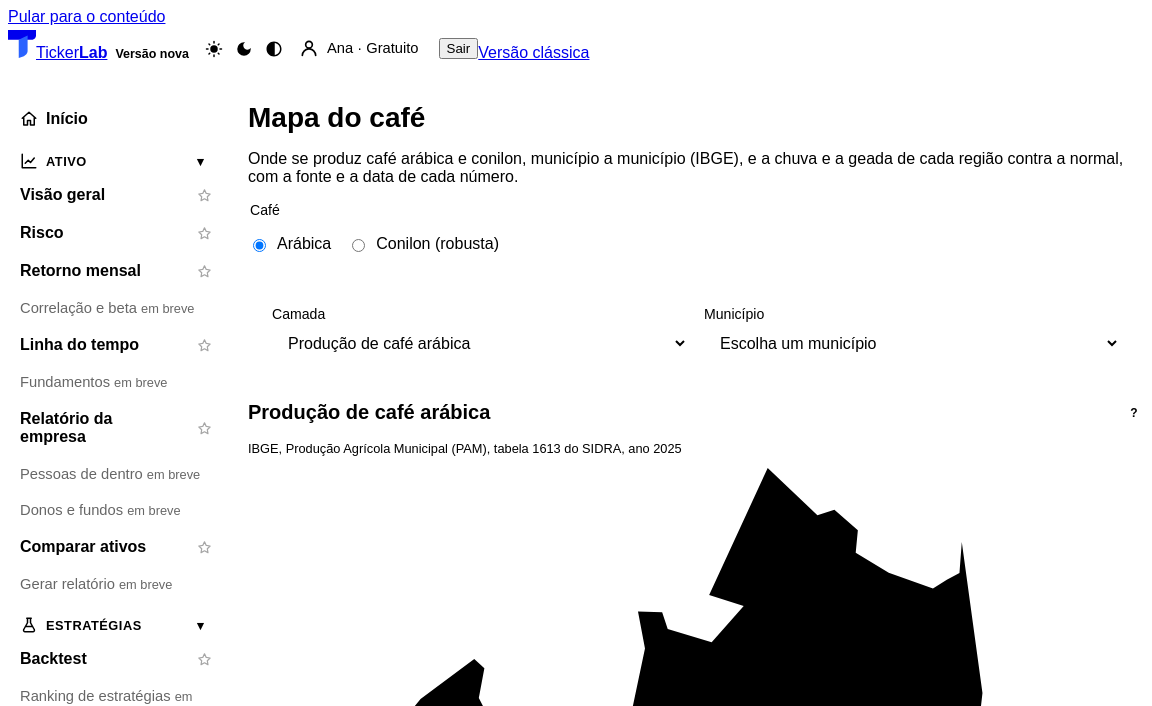
Scenario: mapa do café › a camada de chuva pinta pela região, com a normal na legenda
Select "Chuva dos últimos 3 meses contra a normal" in the dropdown labelled "Camada" at (480, 344), box [272,326,688,361]
(page scrolled)
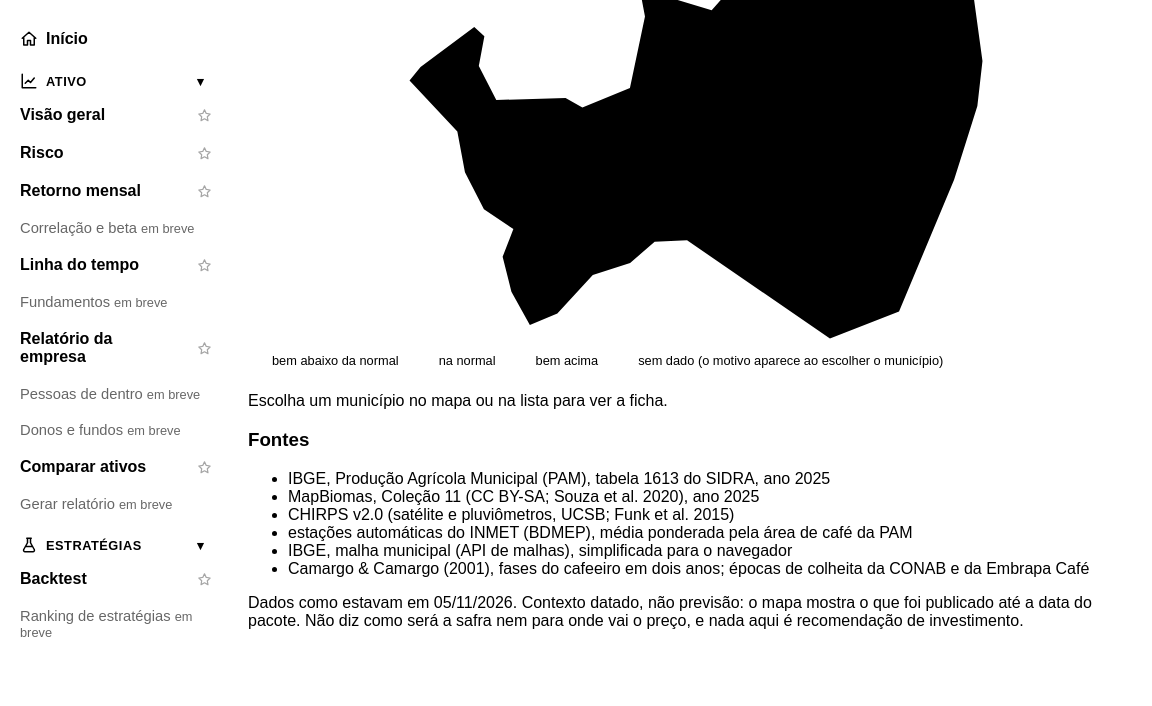
Check: the list item "na normal" is shown, box [439,353,496,368]
